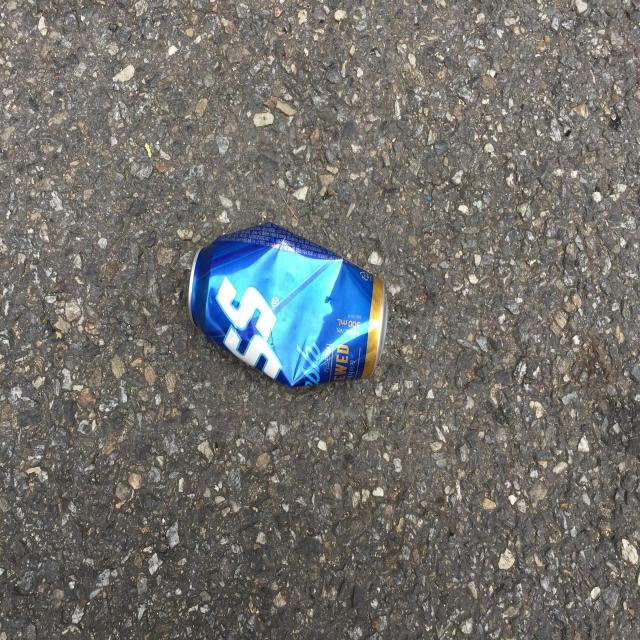can: (188, 222, 388, 387)
